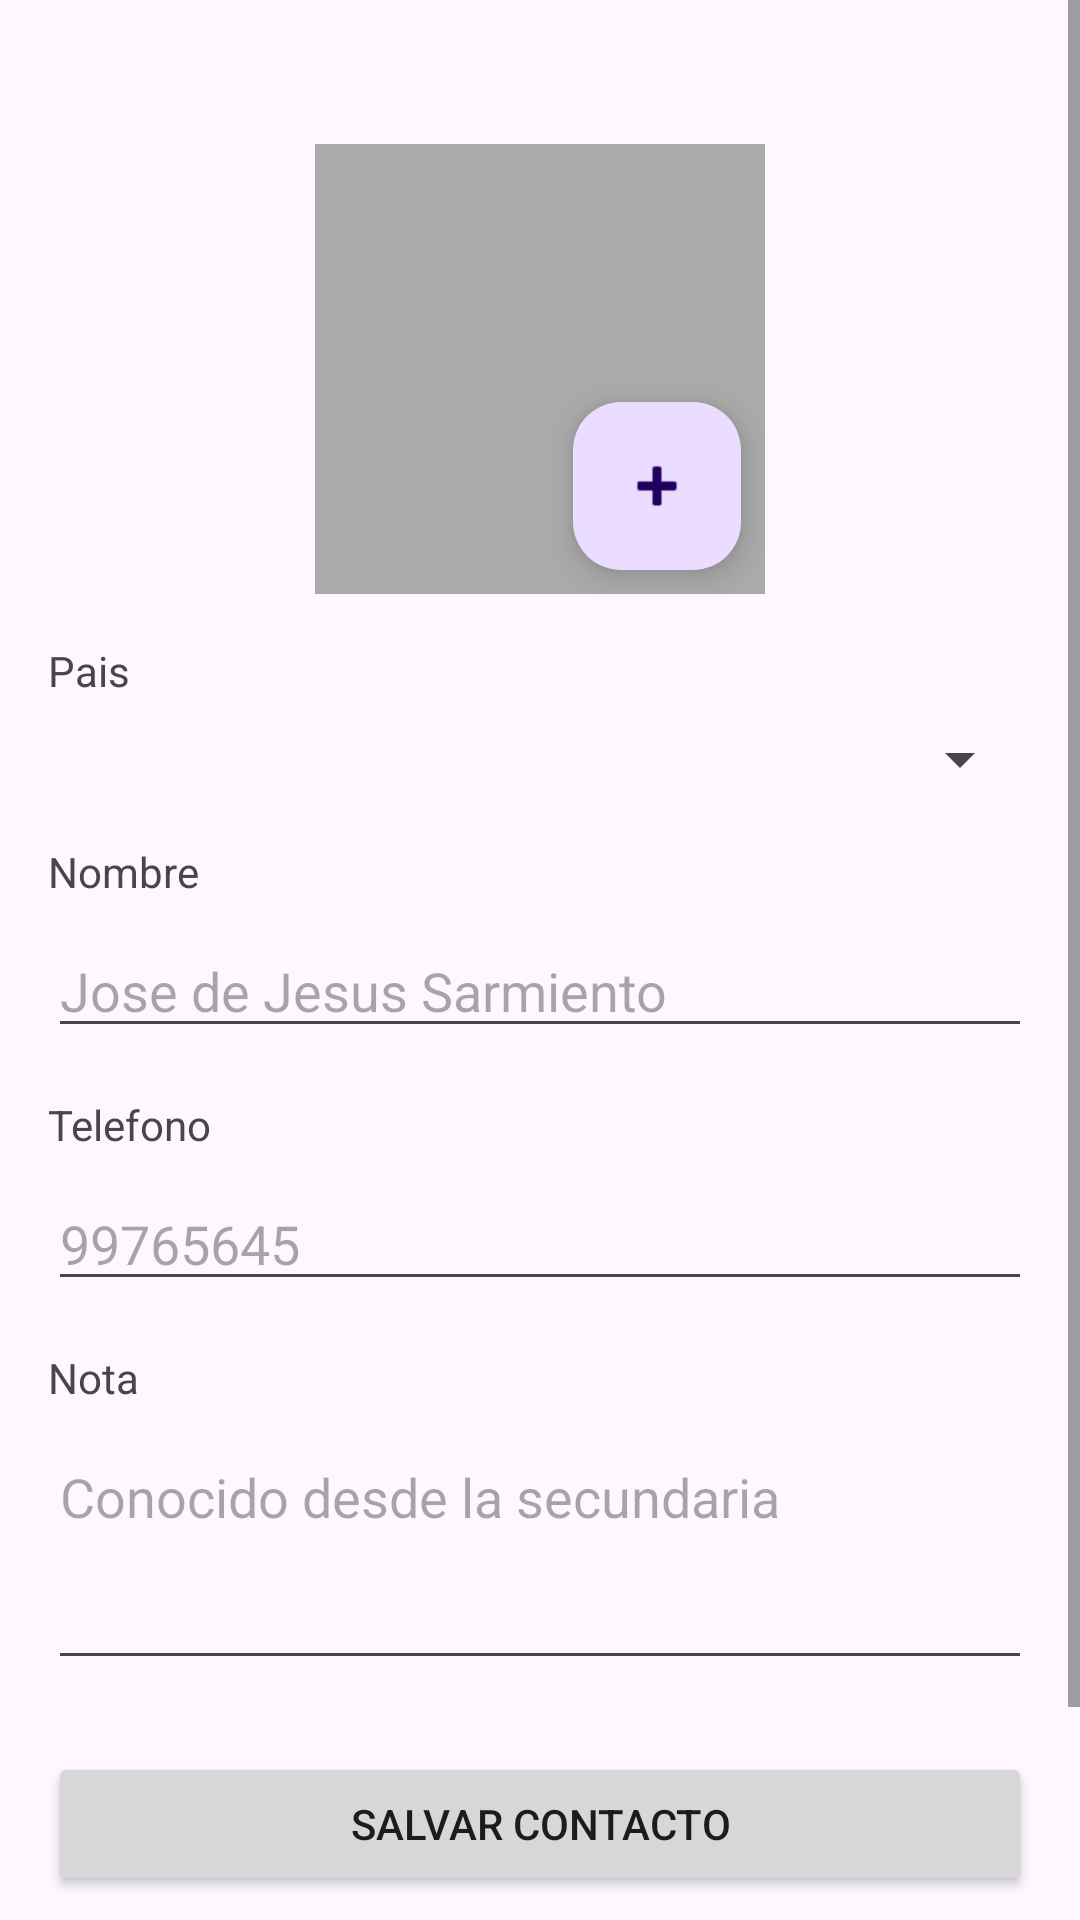

Screen size 1080x1920. Icon name, then its center in pixels as point (x, y):
add: point (657, 486)
